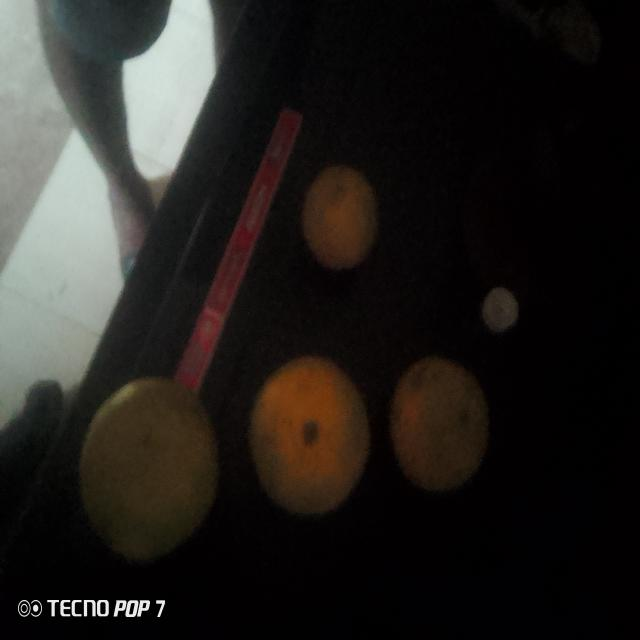Ripe orange: (75, 374, 218, 558), (250, 357, 370, 512), (388, 357, 486, 491), (300, 162, 374, 277)
